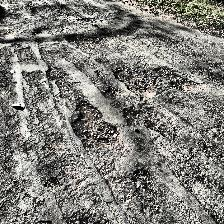pothole: (69, 99, 121, 149), (110, 62, 162, 96), (131, 168, 161, 212), (154, 65, 200, 90), (122, 107, 163, 131), (64, 33, 94, 51), (104, 86, 124, 98)
